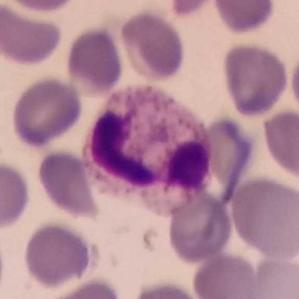Neutrophil: (81, 78, 216, 217)
RBC: (178, 113, 259, 208), (228, 174, 299, 260), (9, 74, 85, 149), (117, 7, 188, 84), (220, 40, 290, 118), (21, 219, 96, 290), (165, 190, 235, 266), (34, 147, 102, 221), (63, 24, 126, 96), (0, 0, 65, 68), (190, 250, 262, 299), (260, 107, 299, 183), (0, 158, 34, 232), (211, 0, 277, 36), (247, 255, 299, 299), (42, 276, 125, 299), (128, 278, 207, 299), (156, 0, 225, 19), (2, 0, 82, 14), (287, 46, 299, 122)
